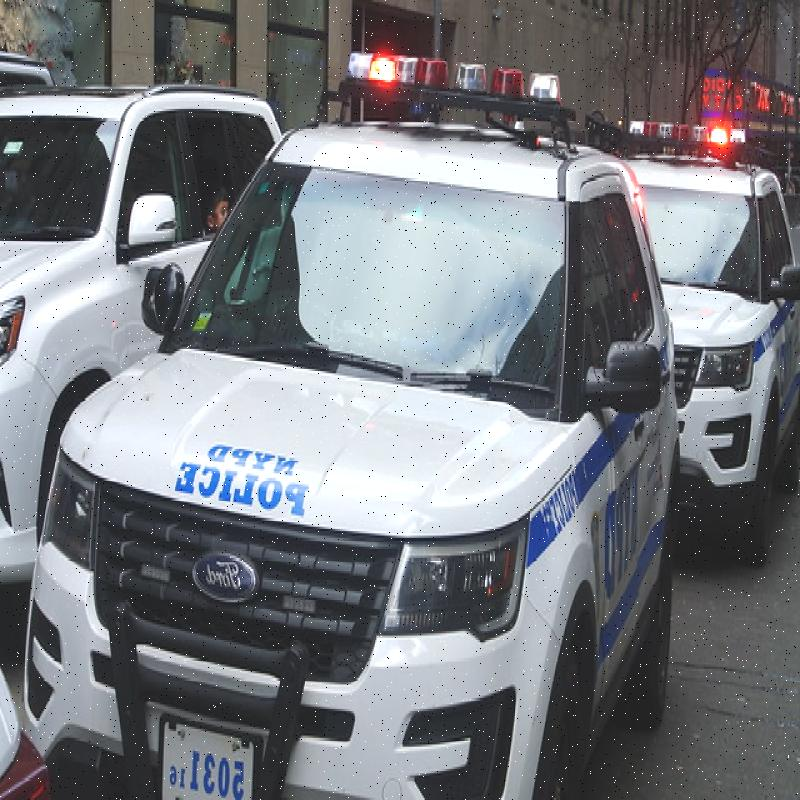AmbulanceSiren: (323, 36, 587, 156), (606, 102, 754, 191)
